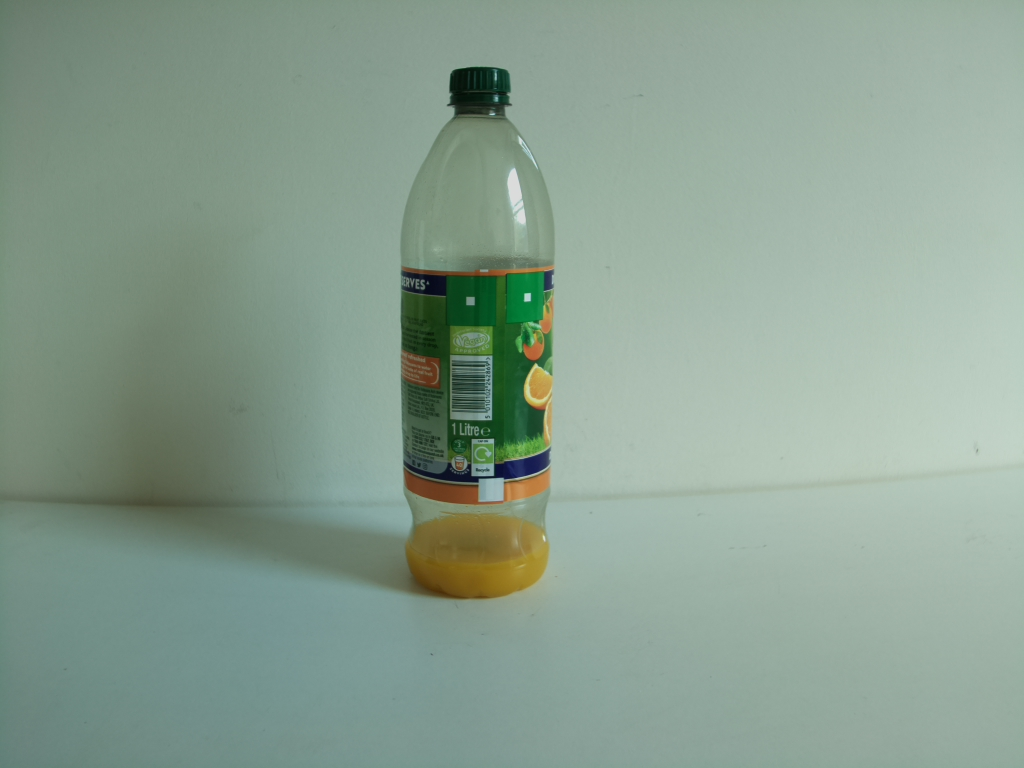juice: (391, 61, 568, 610)
